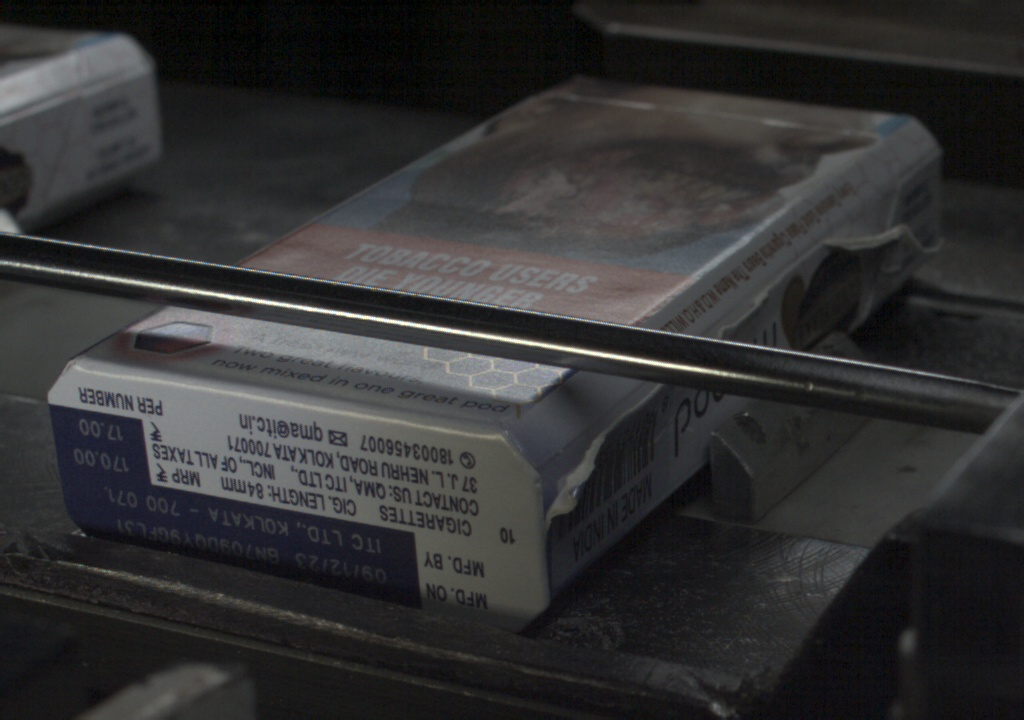g_bottom: (44, 372, 529, 628)
g_label: (57, 482, 417, 597)
g_miter: (891, 141, 939, 185)
ng_lmiter: (546, 434, 598, 523), (822, 194, 890, 261)
price: (58, 414, 149, 479)
